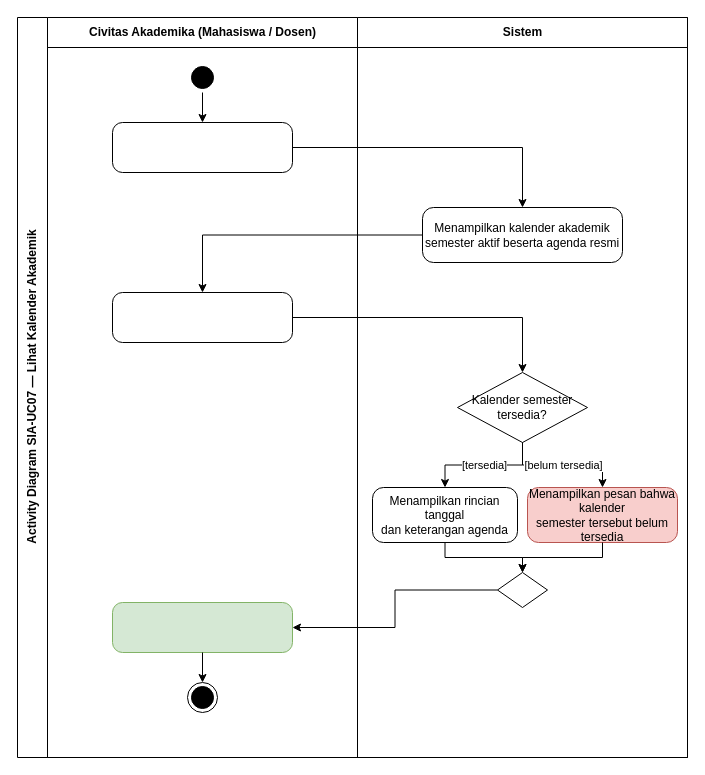
Some shapes in this 705 by 775 pixel diagram are drawn without their labels. Each missing label, with the box of its shape:
Melihat kalender akademik / menerima pesan sistem: (112, 602, 292, 652)
Membuka fungsi Lihat Kalender Akademik: (112, 122, 292, 172)
Memilih semester atau agenda yang ingin dilihat: (112, 292, 292, 342)
